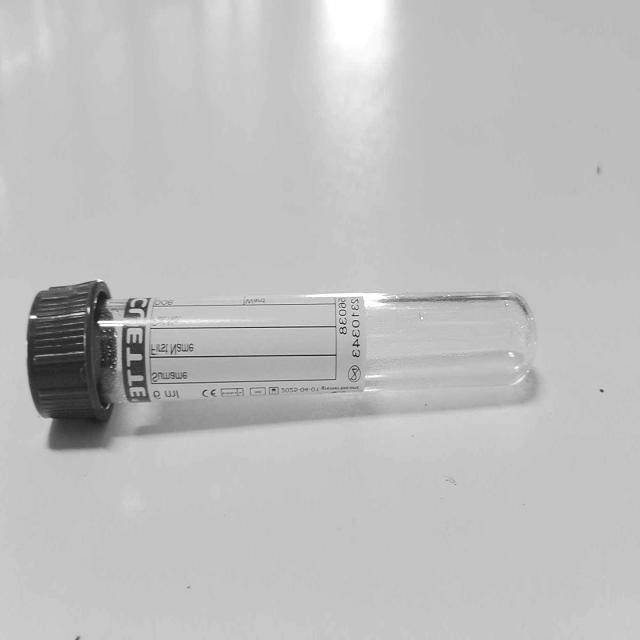Sharps: (26, 277, 539, 424)
